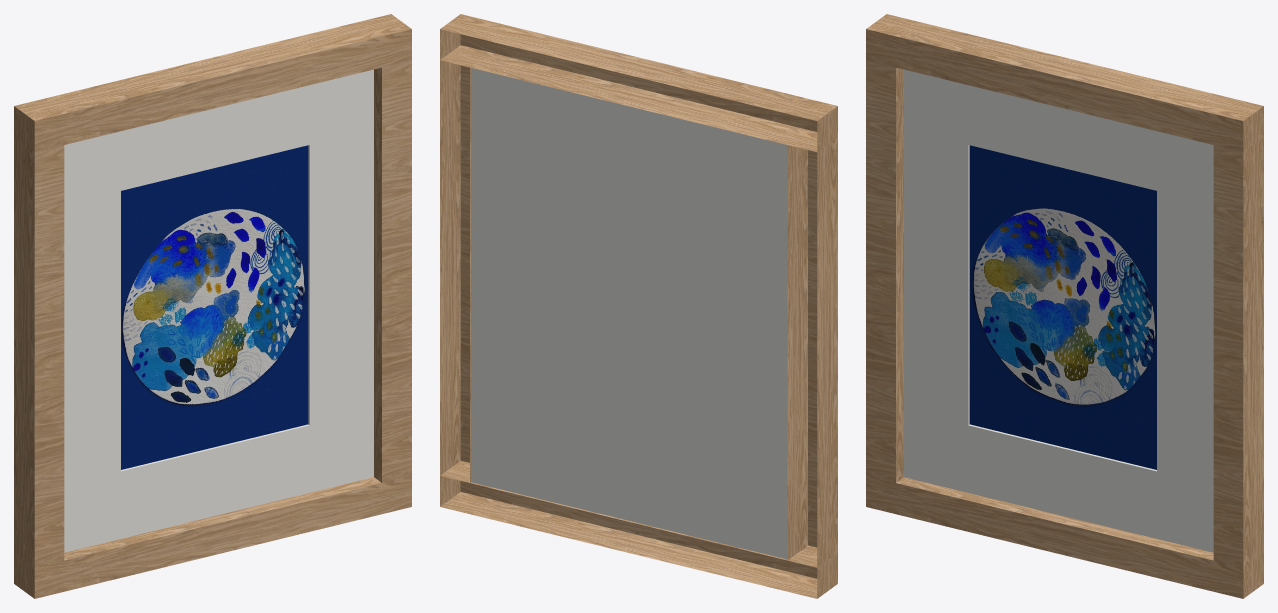
The model's file is deep-blues.glb.
3 views of the same model, side by side, from view 1: azimuth 30°, elevation 25°; view 2: azimuth 150°, elevation 25°; view 3: azimuth 330°, elevation 25° (orthographic).
Visible parts, largest first — view 1: framed-art; view 2: framed-art; view 3: framed-art.
Part boxes in pixels (x1,y1,x2,y2): framed-art: [14, 14, 411, 598]; framed-art: [440, 14, 837, 598]; framed-art: [866, 14, 1263, 598].
Bounding box in the file's own units: 0.2413 × 0.2921 × 0.0229.
Materials: 3 (3 with a texture image).
